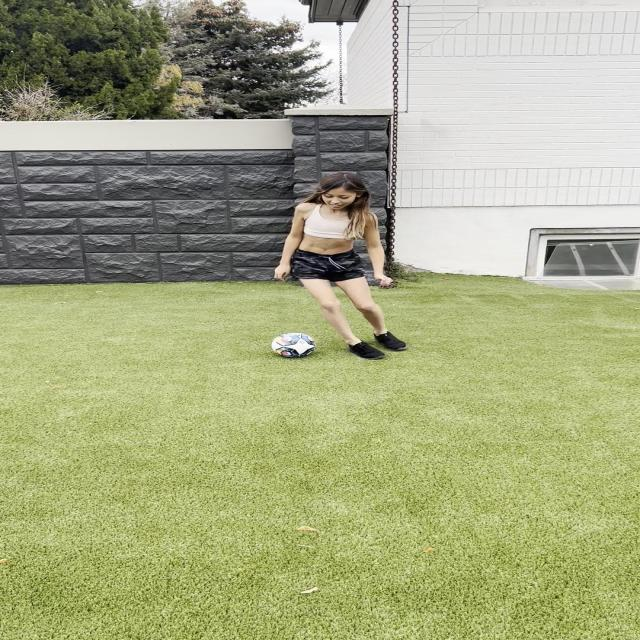Soccer Ball: (271, 332, 316, 359)
